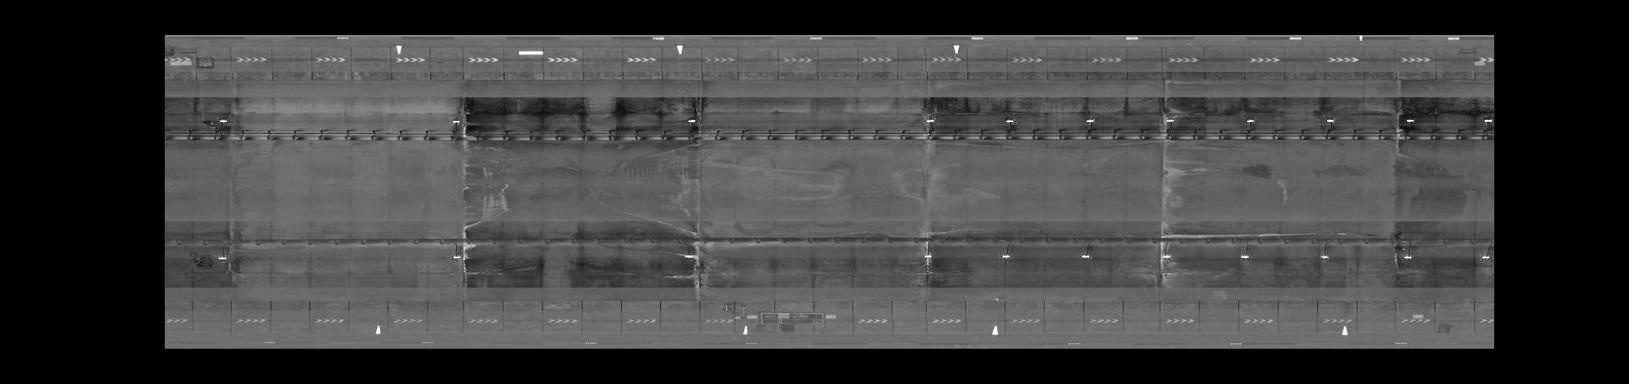light: (918, 252, 938, 260), (1315, 252, 1331, 263), (1003, 114, 1018, 125), (998, 251, 1014, 262), (677, 252, 696, 260), (447, 253, 465, 262), (1319, 116, 1337, 125), (1161, 116, 1178, 125), (1241, 116, 1257, 125), (1081, 116, 1097, 125), (922, 116, 937, 125), (449, 117, 464, 126), (1397, 254, 1415, 262), (1403, 116, 1417, 125), (1157, 253, 1174, 260), (1078, 252, 1093, 260), (214, 254, 229, 263), (1477, 252, 1490, 262), (216, 116, 230, 125), (684, 116, 696, 125), (1481, 116, 1493, 125), (1237, 254, 1252, 260)
